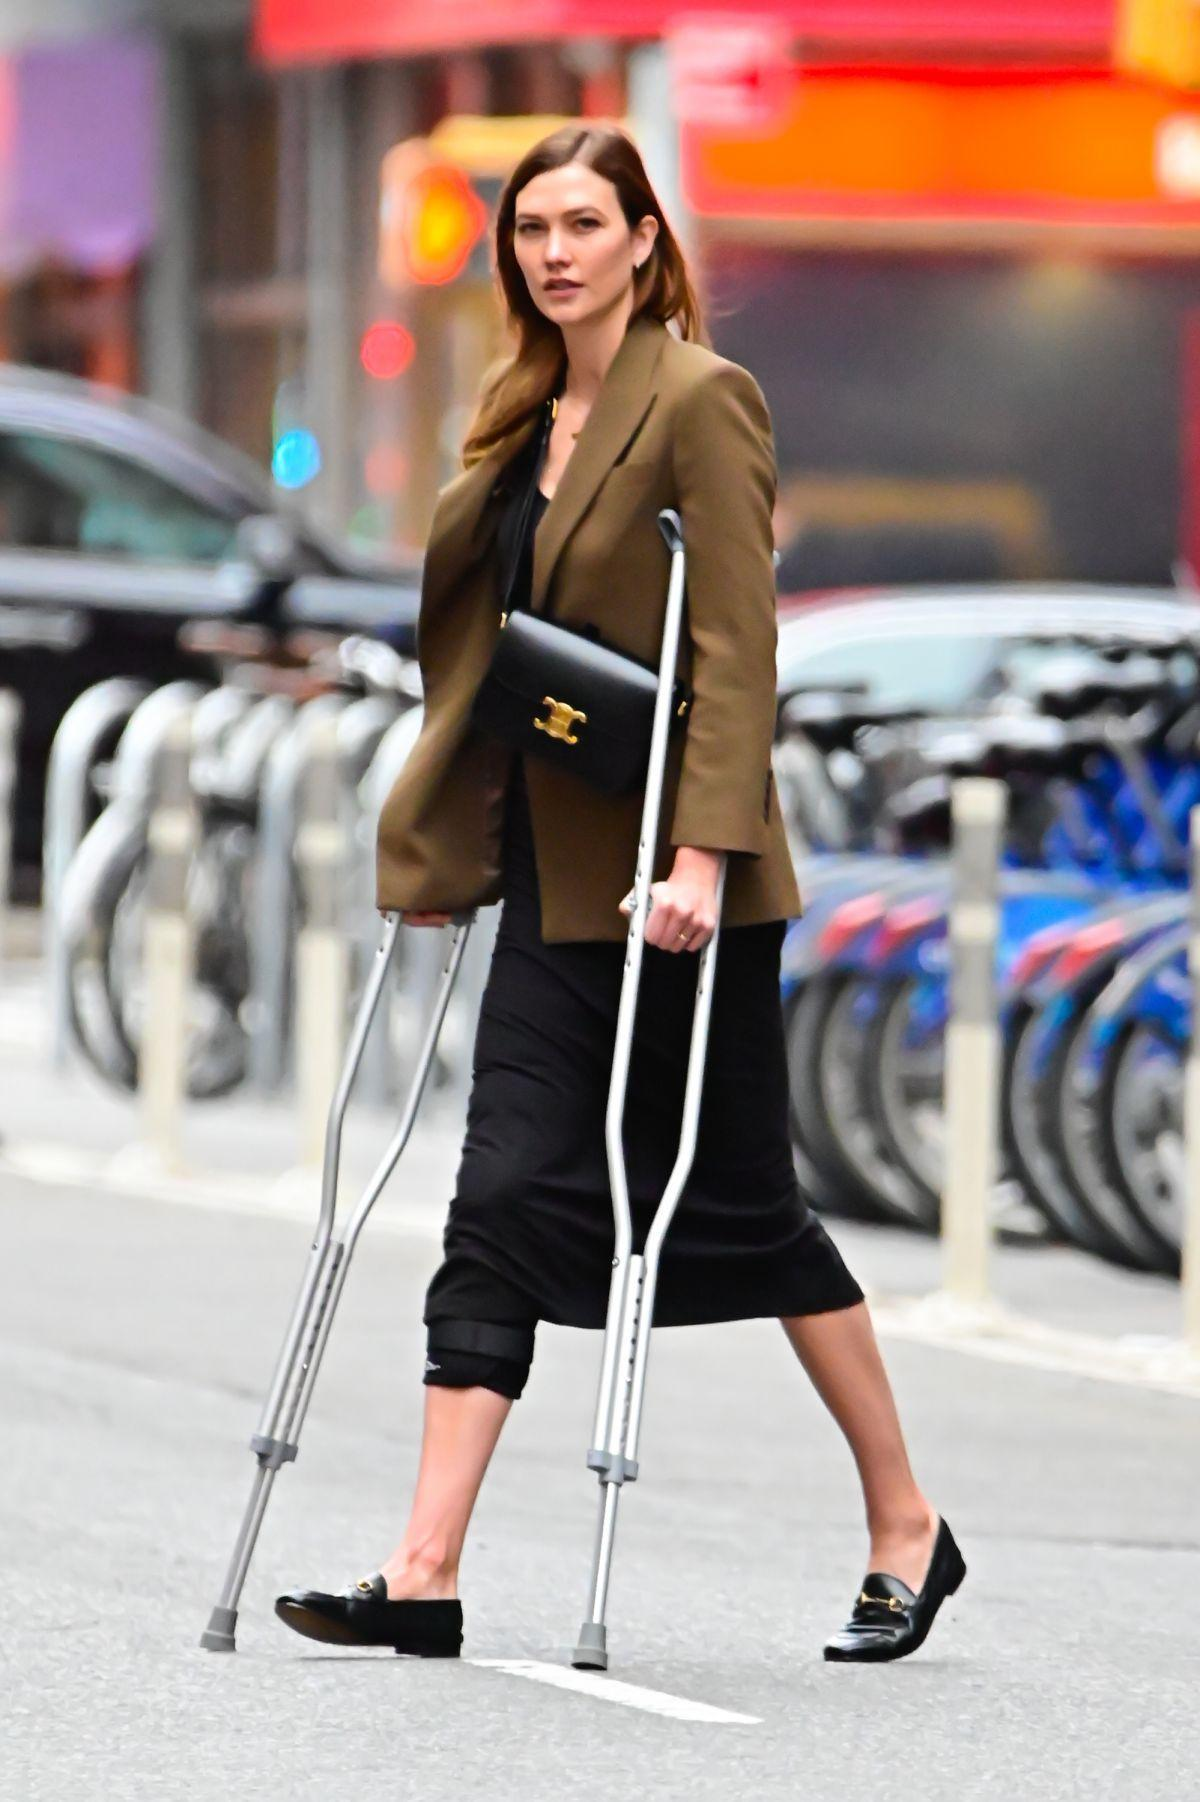crutches: (202, 125, 967, 1669)
